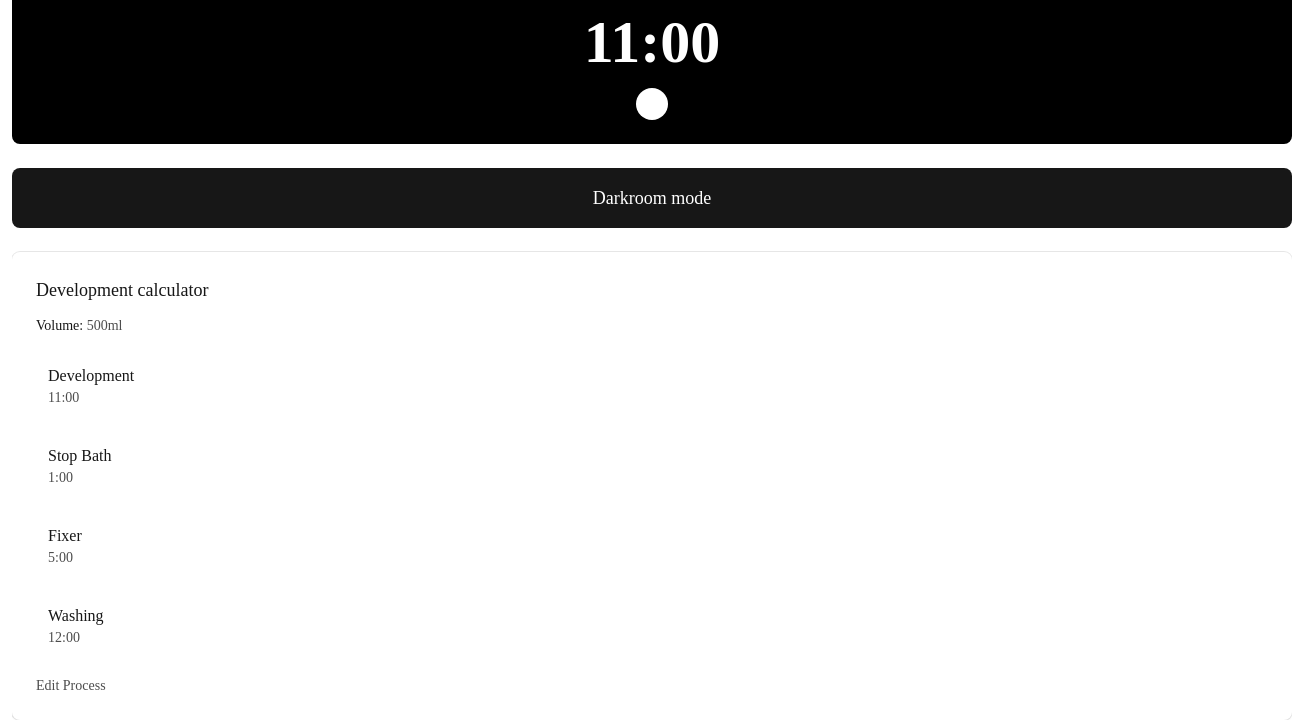
Timer Component › keeps diary-replay wash minutes when Ilford would otherwise shorten wash
The image size is (1304, 720).
(page scrolled)
Click the element with test id "washing-step" at (76, 626), box [48,607,104,645]
(page scrolled)
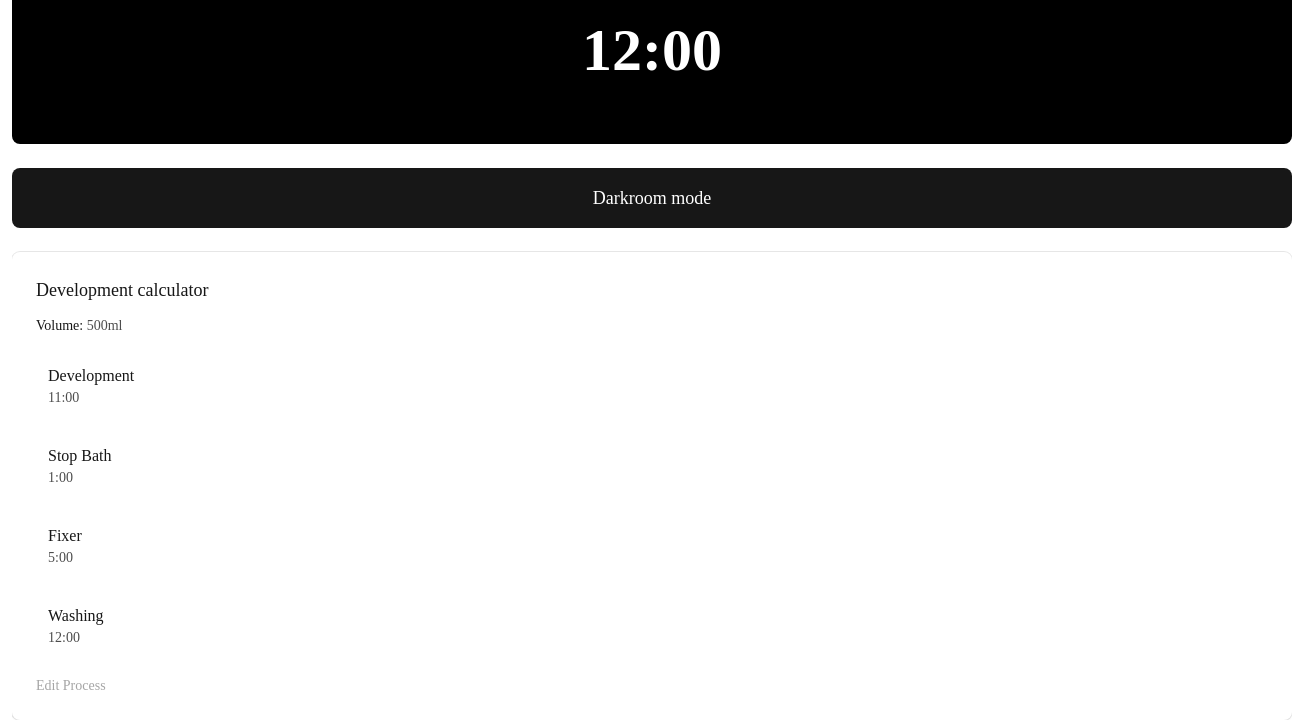
Expected: the text with test id "main-time-display" reads "12:00", [582,17,722,83]
